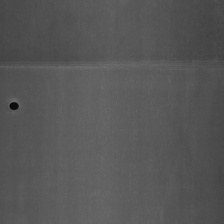punching_hole: (0, 59, 223, 72), (8, 99, 20, 112)
